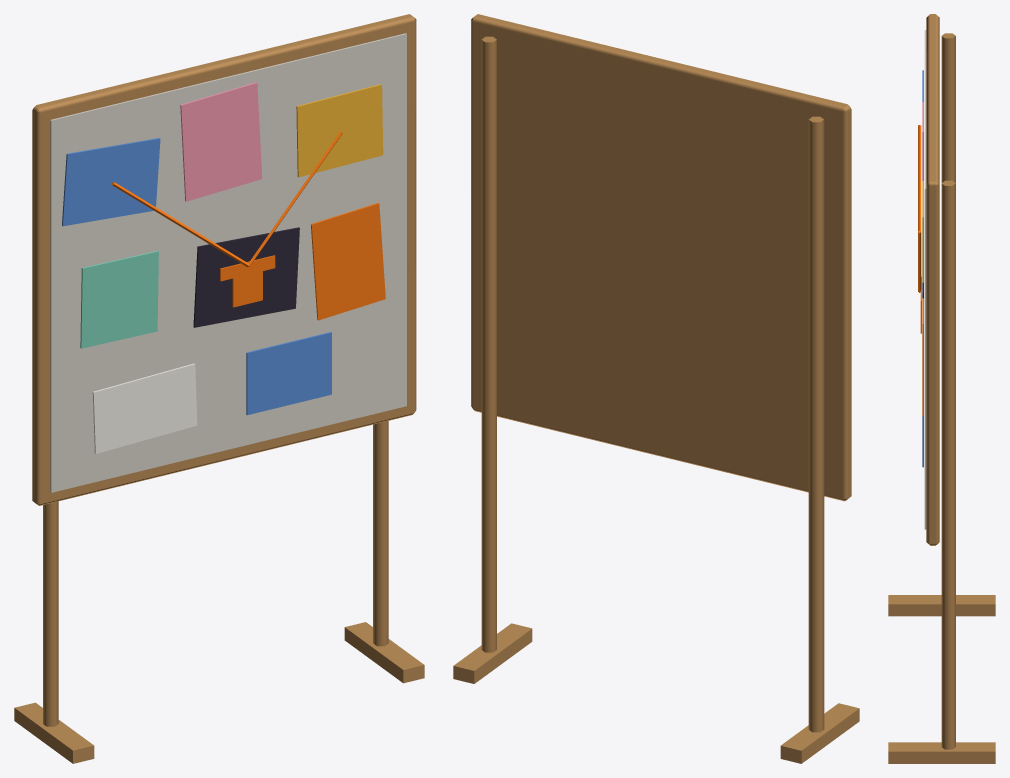
Rendered from station_intake_ausstattung_3_2.glb.
3 views of the same model, side by side, from view 1: azimuth 30°, elevation 25°; view 2: azimuth 150°, elevation 25°; view 3: azimuth 270°, elevation 25° (orthographic). The views are drawn at different scales.
Visible parts, largest first — view 1: station_intake_ausstattung_3_2; view 2: station_intake_ausstattung_3_2; view 3: station_intake_ausstattung_3_2.
Boxes of the visible parts, x1=… form: station_intake_ausstattung_3_2: x1=14, y1=14, x2=424, y2=763; station_intake_ausstattung_3_2: x1=453, y1=14, x2=859, y2=763; station_intake_ausstattung_3_2: x1=888, y1=14, x2=995, y2=763.
Size of the model in its own units: 0.9 by 1.45 by 0.24.
